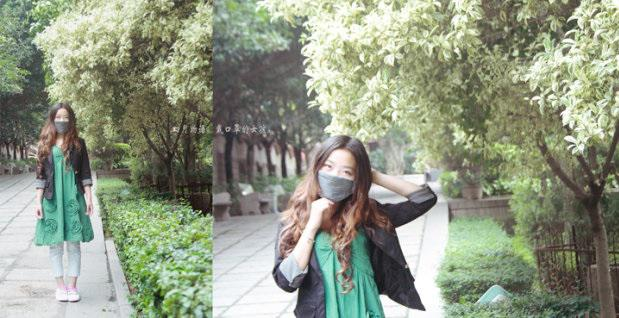OK: (314, 155, 361, 202), (54, 112, 74, 133)
